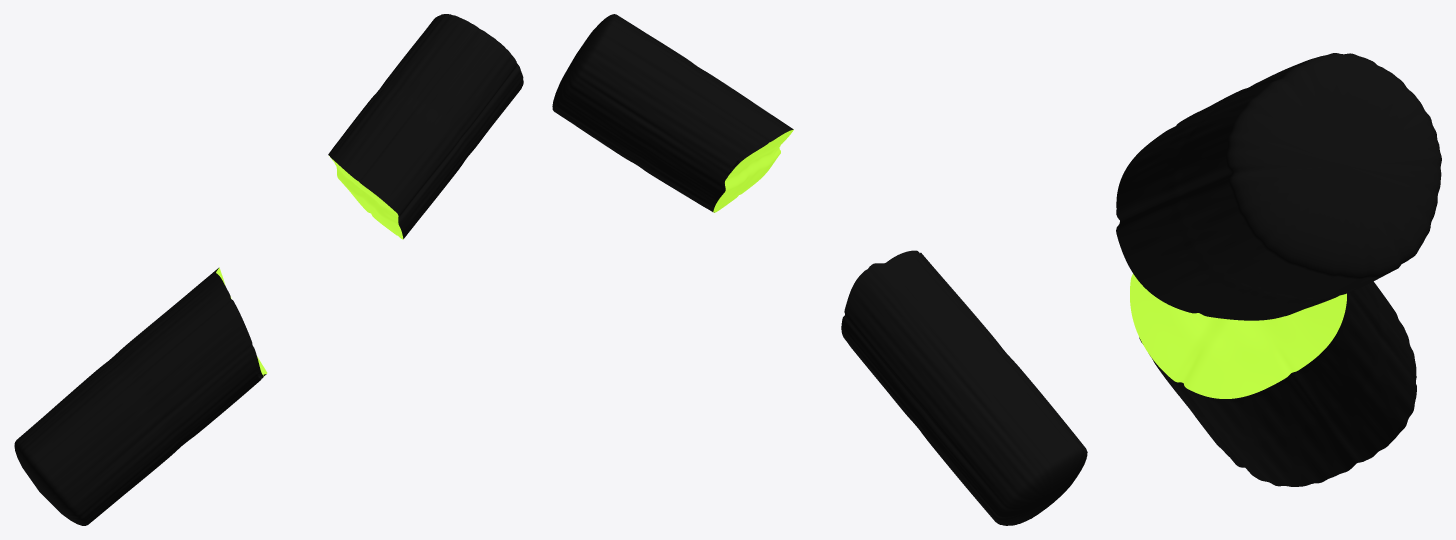
3 views of the same model, side by side, from view 1: azimuth 30°, elevation 25°; view 2: azimuth 150°, elevation 25°; view 3: azimuth 270°, elevation 25° (orthographic). The views are drawn at different scales.
Parts seen in each view (by area): view 1: sumi_L, sumi_R, oki_R; view 2: sumi_L, sumi_R, oki_R; view 3: sumi_R, sumi_L, oki_L.
Boxes of the visible parts, box(x1,y1,x2,y2) form: sumi_L: box(14, 268, 266, 525); sumi_R: box(328, 14, 523, 238); oki_R: box(329, 156, 403, 239); sumi_L: box(841, 250, 1087, 525); sumi_R: box(552, 14, 793, 212); oki_R: box(713, 129, 793, 212); sumi_R: box(1116, 53, 1441, 320); sumi_L: box(1139, 281, 1416, 486); oki_L: box(1130, 273, 1346, 398).
Bounding box in the file's own units: 2.41 × 1.88 × 0.6883.
